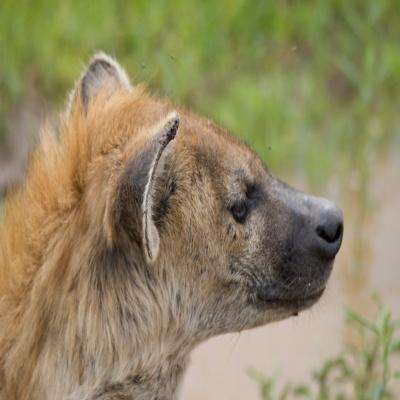hyenas: (0, 32, 400, 400)
